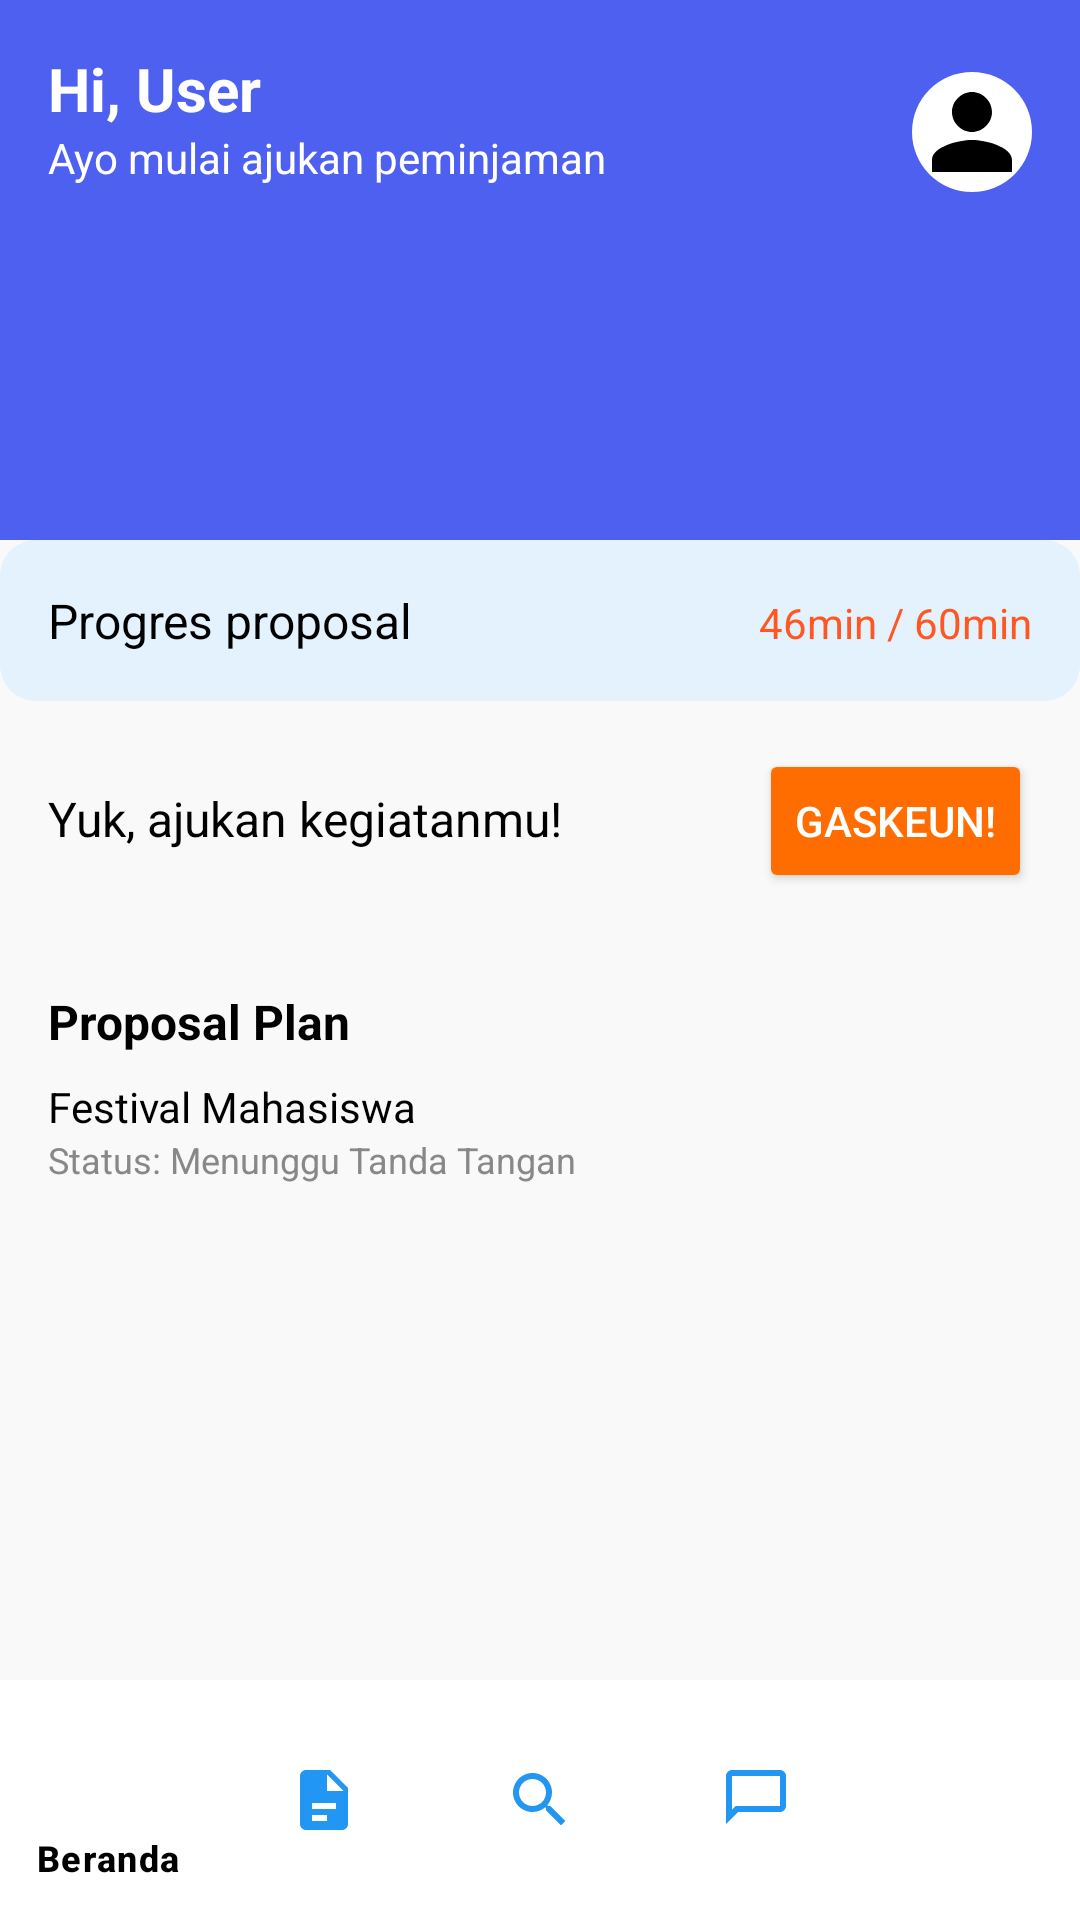

Icon bounding boxes for this 1080 × 1920 phone screenshot, format bbox=(x1, y1, x2, y2):
user: bbox=(912, 72, 1032, 192)
